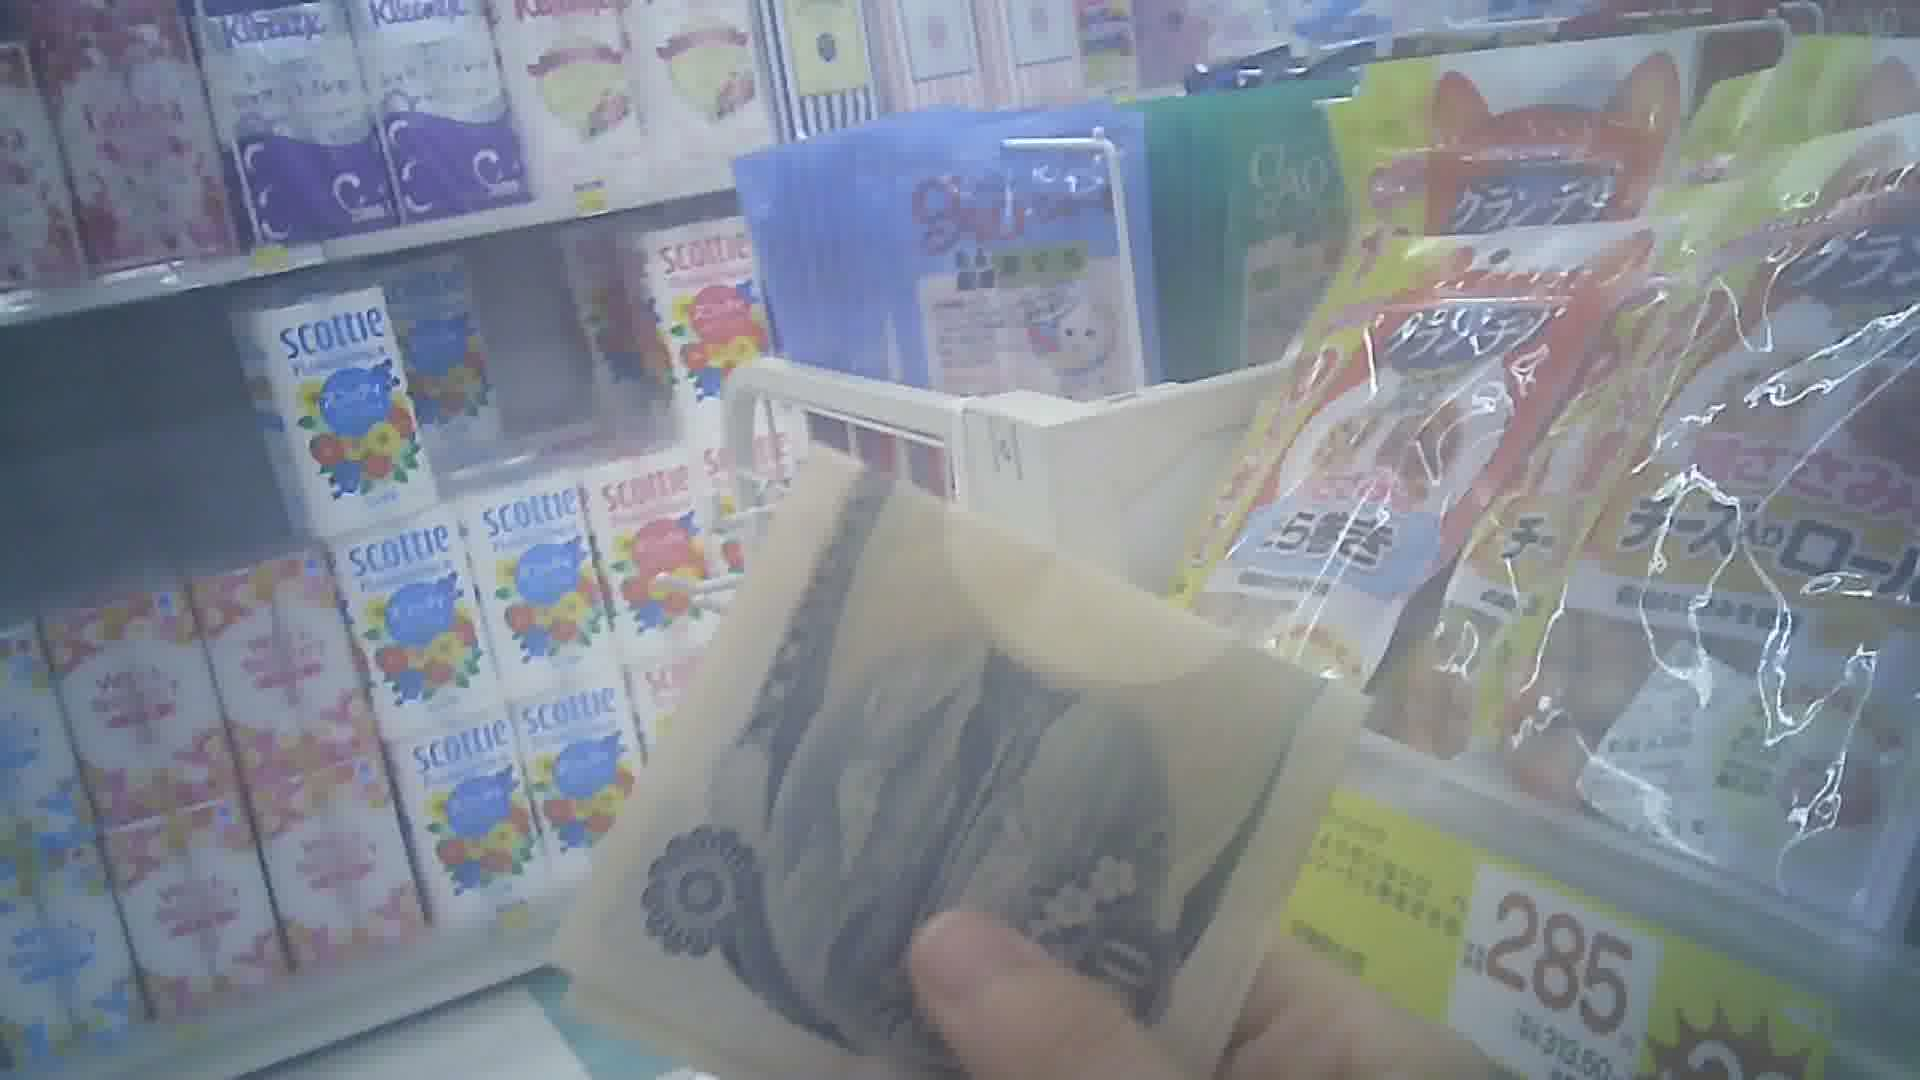1,000 Yen: (553, 443, 1305, 1079)
